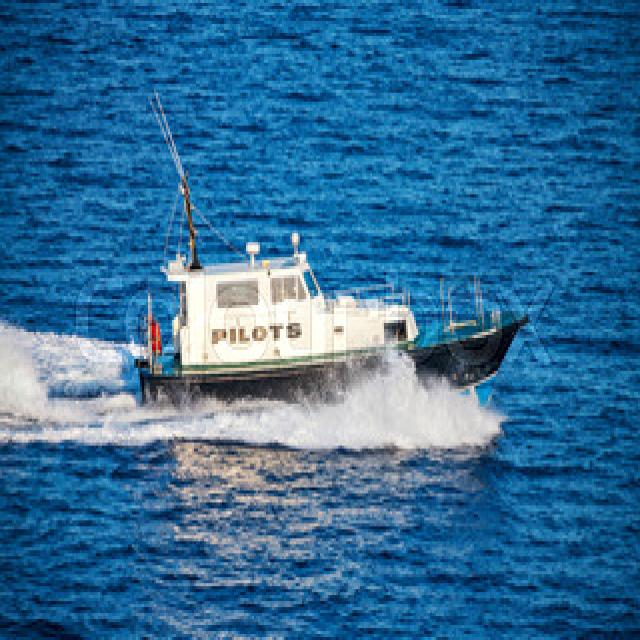houseboat: (128, 130, 526, 418)
